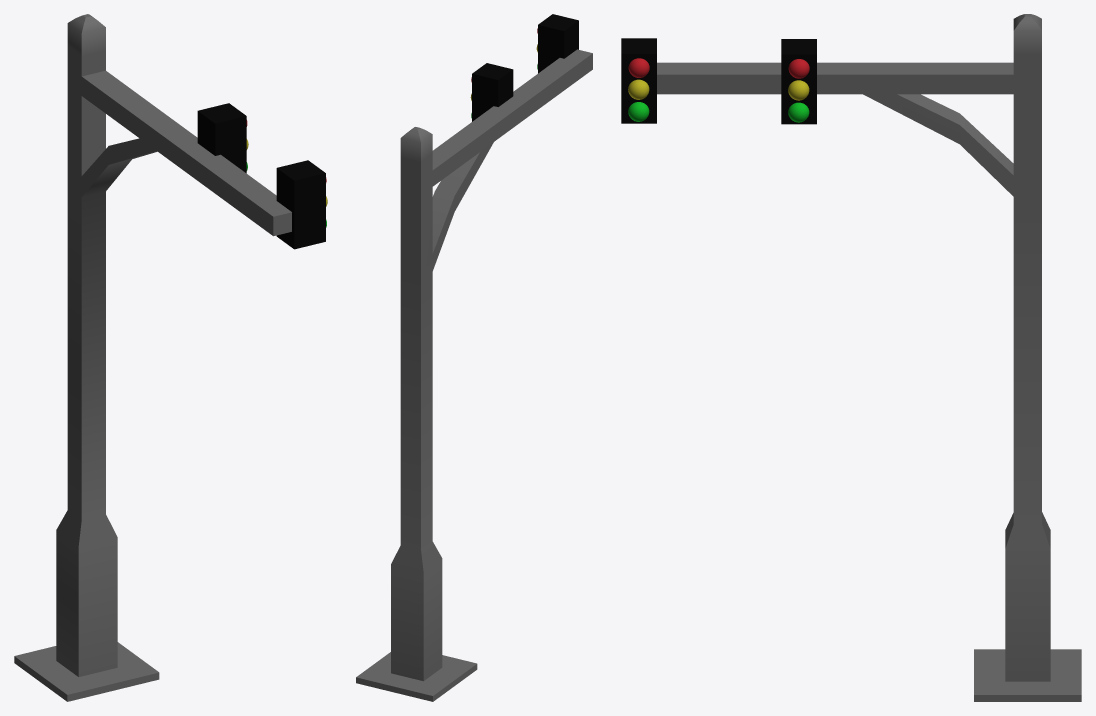
File: trafficlight.fbx
3 renders of one model, left to right at view 1: azimuth 30°, elevation 25°; view 2: azimuth 150°, elevation 25°; view 3: azimuth 270°, elevation 25°, orthographic. The views are drawn at different scales.
Visible parts, largest first — view 1: trafficlight; view 2: trafficlight; view 3: trafficlight.
Part boxes in pixels (x1,y1,x2,y2): trafficlight: [14, 14, 327, 701]; trafficlight: [356, 14, 592, 701]; trafficlight: [621, 14, 1081, 701].
Size of the model in its own units: 342 by 2293 by 1442.
